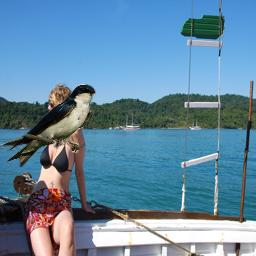Swallow: (0, 84, 96, 167)
